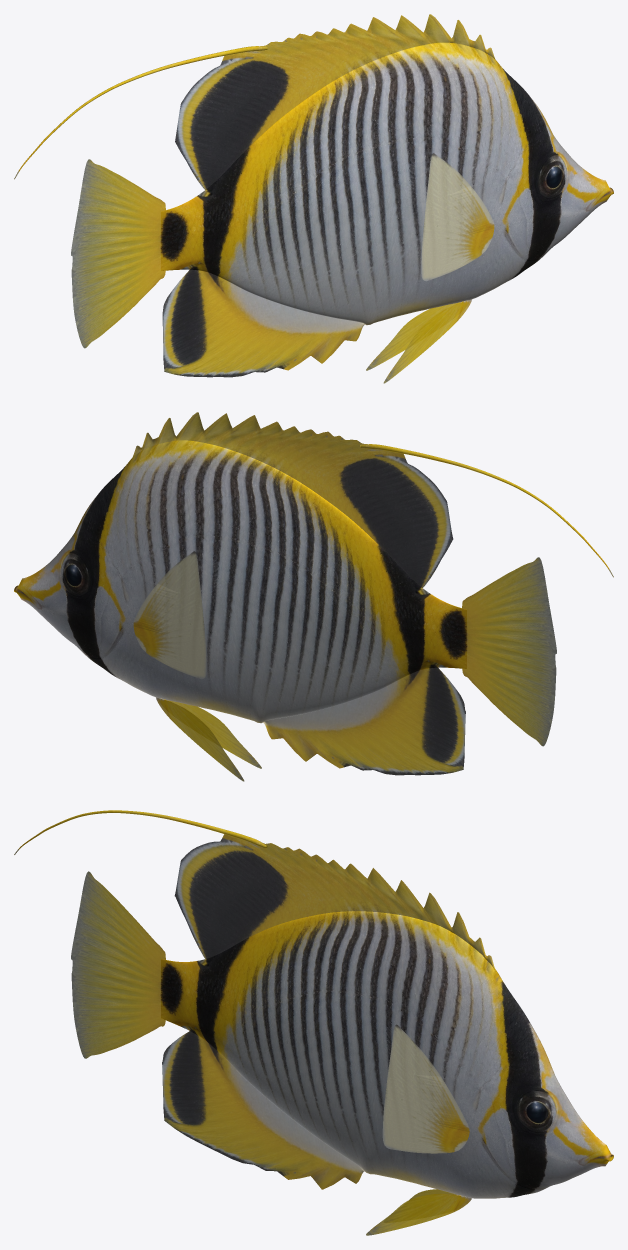
The model's file is auriga.glb.
3 views of the same model, one above another, from view 1: azimuth 30°, elevation 25°; view 2: azimuth 150°, elevation 25°; view 3: azimuth 330°, elevation 25° (orthographic).
Parts seen in each view (by area): view 1: auriga__body, auriga__fin_1, auriga__fin_2, auriga__fin_0, auriga__pectoral_1, auriga__gill_1, auriga__pelvic_1, auriga__pelvic_-1, auriga__fin_3, auriga__eye_1; view 2: auriga__body, auriga__fin_1, auriga__fin_2, auriga__fin_0, auriga__pectoral_-1, auriga__gill_-1, auriga__pelvic_-1, auriga__pelvic_1, auriga__fin_3, auriga__eye_-1; view 3: auriga__body, auriga__fin_1, auriga__fin_2, auriga__fin_0, auriga__pectoral_1, auriga__gill_1, auriga__pelvic_1, auriga__fin_3, auriga__eye_1.
Boxes of the visible parts, x1,y1,x2,y2 form: auriga__body: [161, 42, 613, 325]; auriga__fin_1: [175, 14, 495, 189]; auriga__fin_2: [162, 269, 365, 377]; auriga__fin_0: [71, 159, 165, 348]; auriga__pectoral_1: [421, 153, 494, 281]; auriga__gill_1: [500, 150, 544, 262]; auriga__pelvic_1: [383, 299, 471, 383]; auriga__pelvic_-1: [366, 302, 459, 370]; auriga__fin_3: [14, 46, 267, 179]; auriga__eye_1: [543, 160, 565, 190]; auriga__body: [14, 440, 466, 723]; auriga__fin_1: [132, 412, 453, 587]; auriga__fin_2: [263, 667, 465, 775]; auriga__fin_0: [462, 557, 556, 746]; auriga__pectoral_-1: [133, 551, 206, 679]; auriga__gill_-1: [83, 548, 127, 660]; auriga__pelvic_-1: [156, 697, 244, 781]; auriga__pelvic_1: [168, 700, 261, 768]; auriga__fin_3: [360, 444, 613, 577]; auriga__eye_-1: [62, 558, 84, 588]; auriga__body: [161, 911, 613, 1198]; auriga__fin_1: [174, 834, 495, 971]; auriga__fin_2: [162, 1031, 364, 1189]; auriga__fin_0: [71, 871, 165, 1058]; auriga__pectoral_1: [382, 1024, 469, 1153]; auriga__gill_1: [478, 1068, 524, 1177]; auriga__pelvic_1: [366, 1194, 470, 1235]; auriga__fin_3: [14, 810, 267, 854]; auriga__eye_1: [523, 1097, 553, 1124].
Bounding box in the file's own units: 1.33 × 0.7737 × 0.149.
5 materials, 5 textured.
